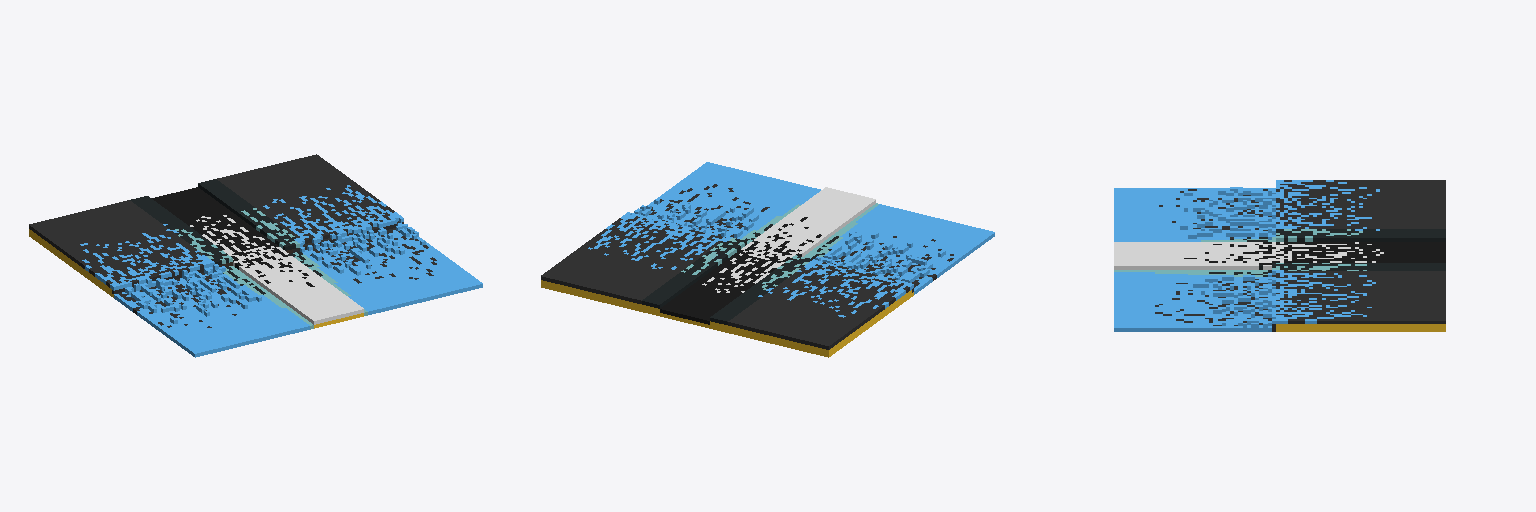
3 views of the same model, side by side, from view 1: azimuth 30°, elevation 25°; view 2: azimuth 150°, elevation 25°; view 3: azimuth 270°, elevation 25° (orthographic).
Visible parts, largest first — view 1: cityToIce; view 2: cityToIce; view 3: cityToIce.
Boxes of the visible parts, x1,y1,x2,y2 form: cityToIce: [29, 154, 482, 357]; cityToIce: [541, 162, 994, 357]; cityToIce: [1114, 180, 1445, 331].
Bounding box in the file's own units: 80 × 3 × 80.
1 materials, 1 textured.